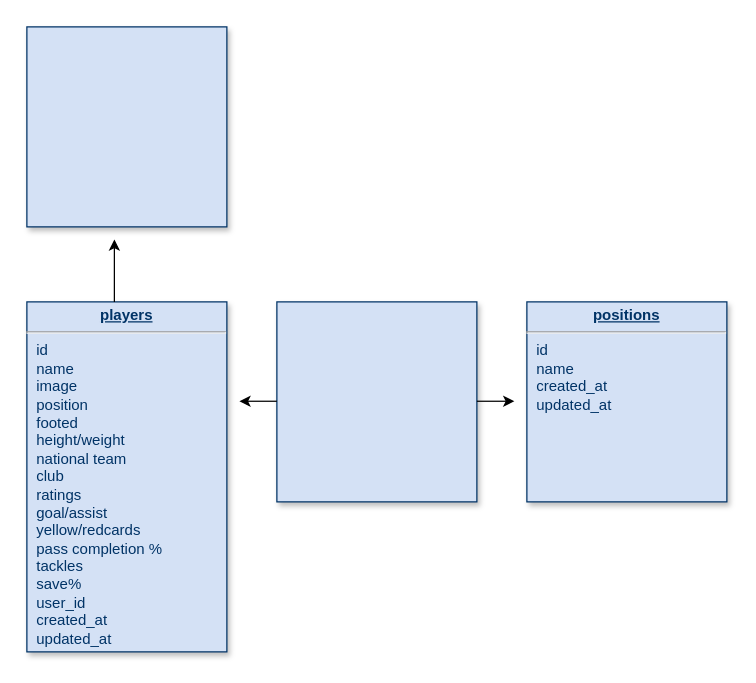
Some shapes in this 756 by 683 pixel diagram are drawn without their labels. The shapes that lost their labels are listed below. From the top down, each one's centre as x and y in pixels, then its label:
At point 127,128: "users id username email password_digest created_at updated_at".
At point 377,403: "players_positions player_id position_id created_at updated_at".
